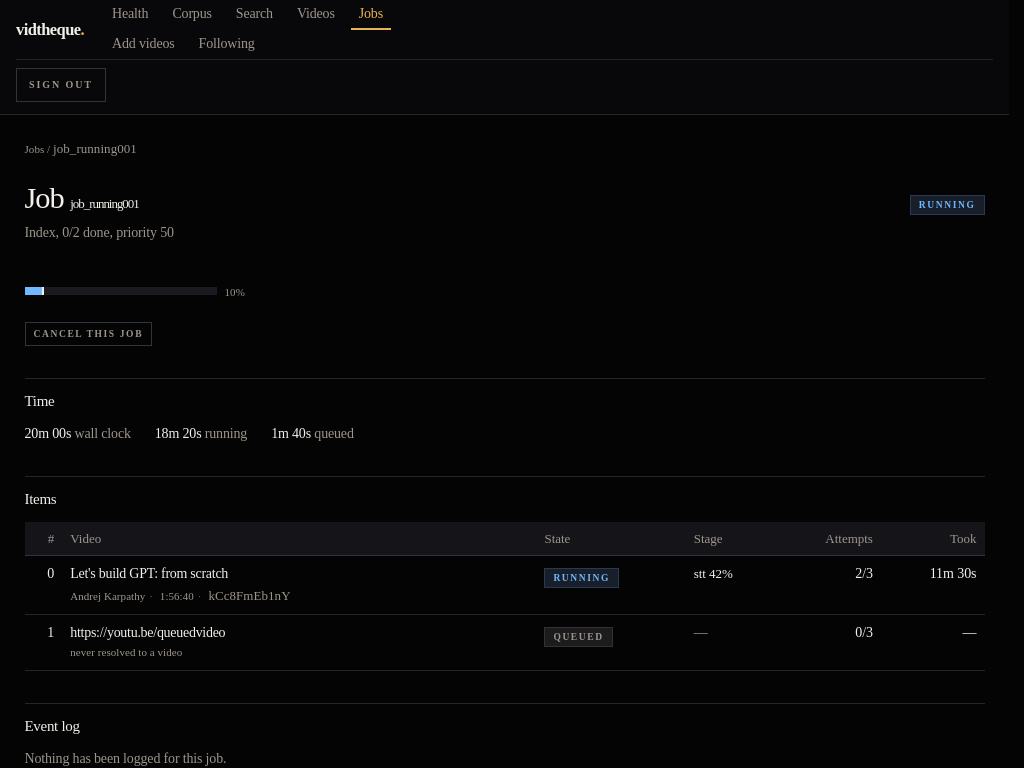
Test: one job's page › the two controls › cancels a running job and says the request was recorded
Click the button "Cancel this job" at (88, 334), box [24, 322, 152, 346]
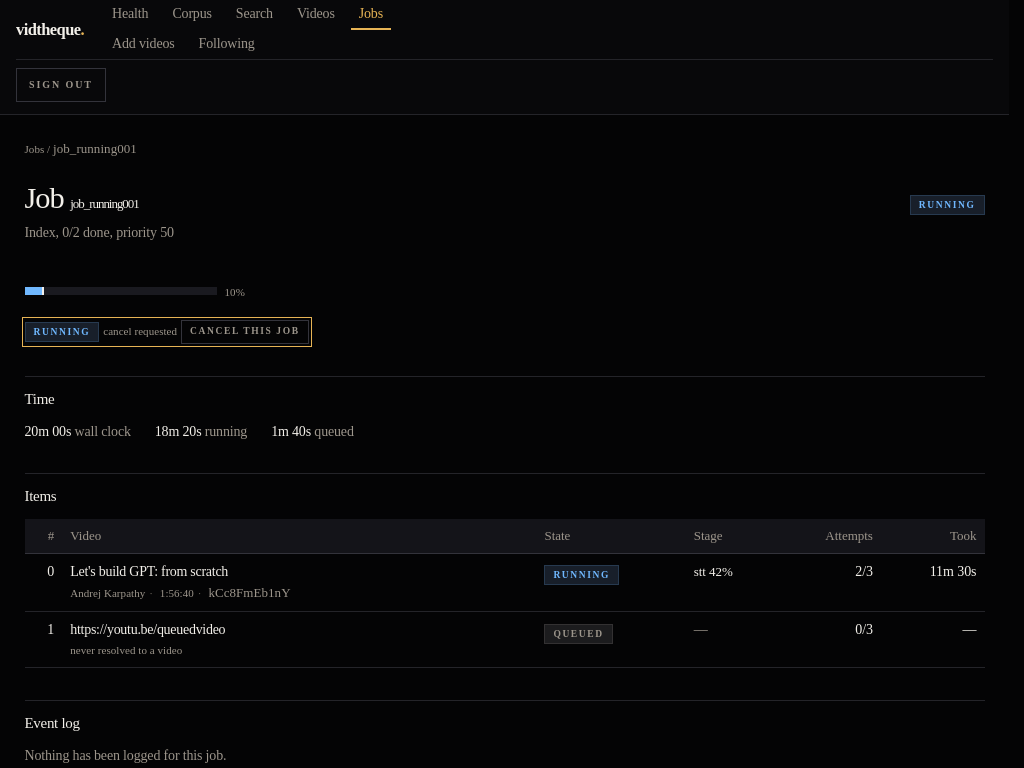
expect the button "Cancel this job" is shown: met, box [181, 320, 309, 344]
expect the text "cancel requested" is shown: met, box [103, 323, 177, 340]
